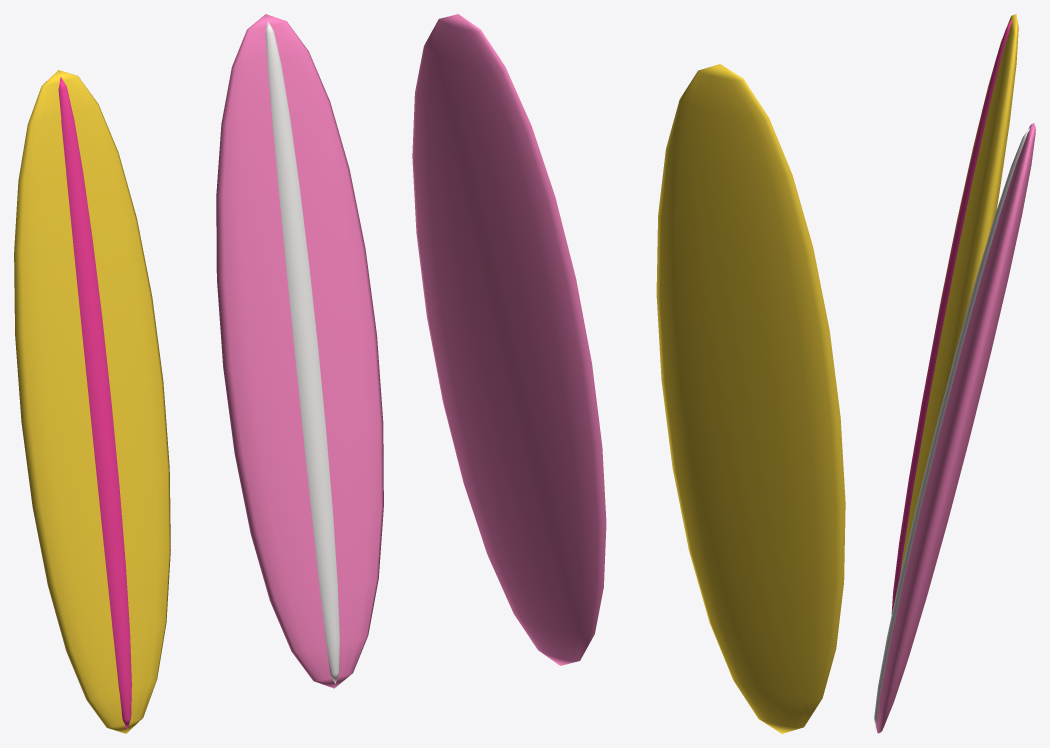
The model's file is surfboards.glb.
3 renders of one model, left to right at view 1: azimuth 30°, elevation 25°; view 2: azimuth 150°, elevation 25°; view 3: azimuth 270°, elevation 25°, orthographic. The views are drawn at different scales.
Visible parts, largest first — view 1: Surfboards; view 2: Surfboards; view 3: Surfboards.
Part boxes in pixels (<box>): Surfboards: <box>14,14,383,733</box>; Surfboards: <box>412,14,845,733</box>; Surfboards: <box>874,14,1035,733</box>.
Bounding box in the file's own units: 1.44 × 2.4 × 0.566.
